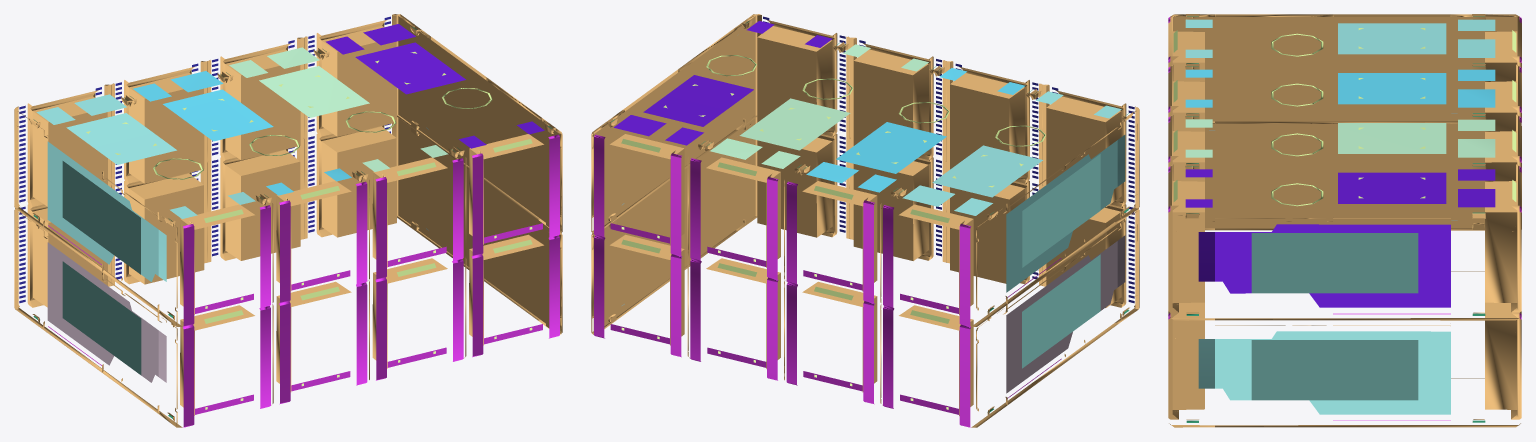
File: storage_container_stack_4_a_lod2.glb
The picture shows the model from 3 angles, left to right: view 1: azimuth 30°, elevation 25°; view 2: azimuth 150°, elevation 25°; view 3: azimuth 270°, elevation 25°; orthographic projection. The views are drawn at different scales.
Bounding box in the file's own units: 10.01 × 5.03 × 7.5.
